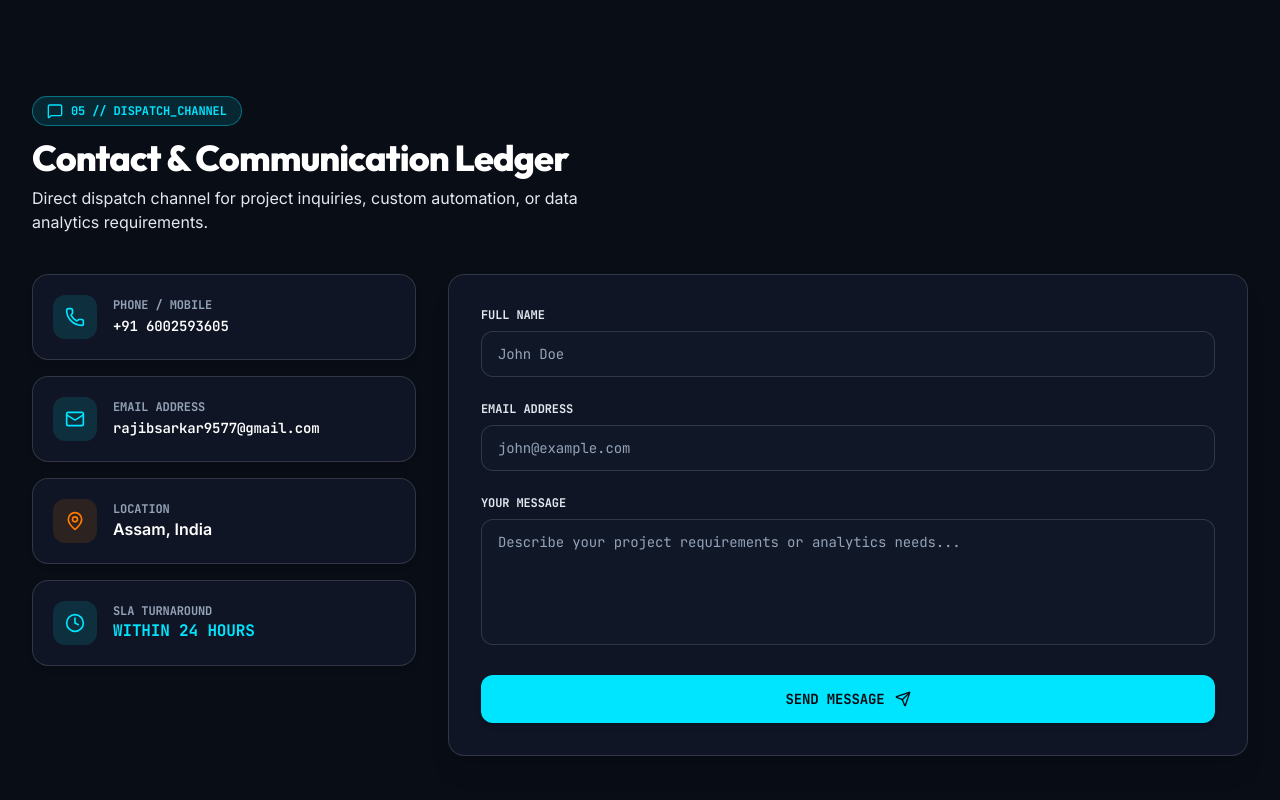
Contact Form Validation › should enforce message minimum length
# Fill valid name, valid email, too short message
Type "Test User" into the field labelled "Full Name" at coordinates (848, 354), box [481,331,1215,377]
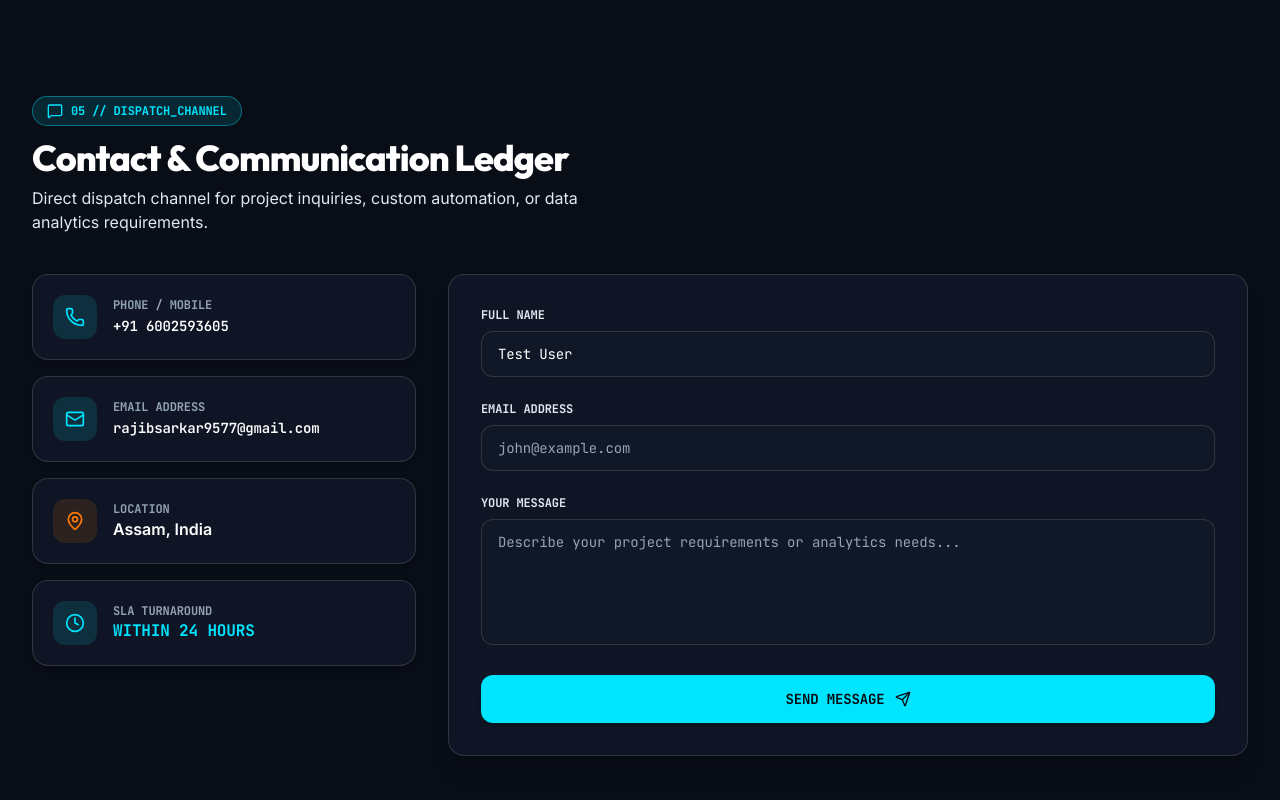
Type "test@example.com" into the field labelled "Email Address" at coordinates (848, 448), box [481,425,1215,471]
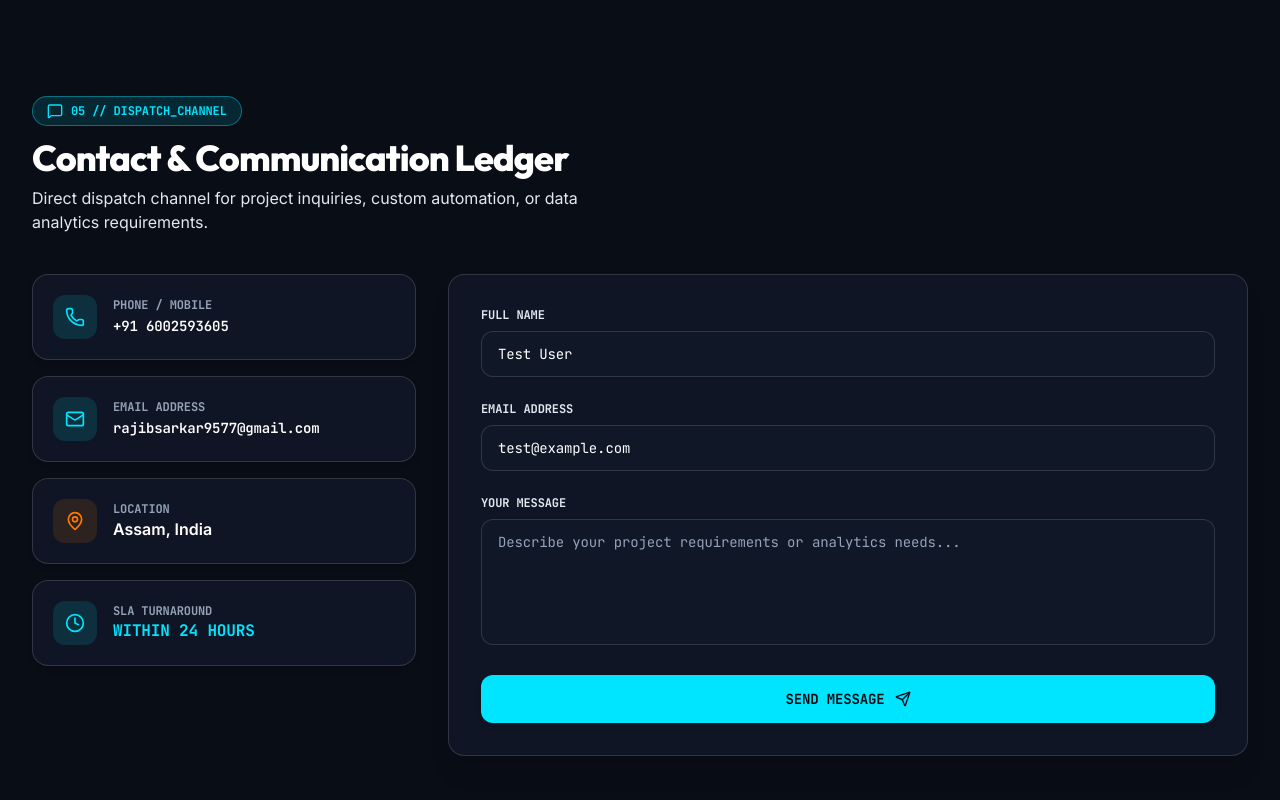
Type "Short" into the text box labelled "Your Message" at coordinates (848, 582), box [481,519,1215,645]
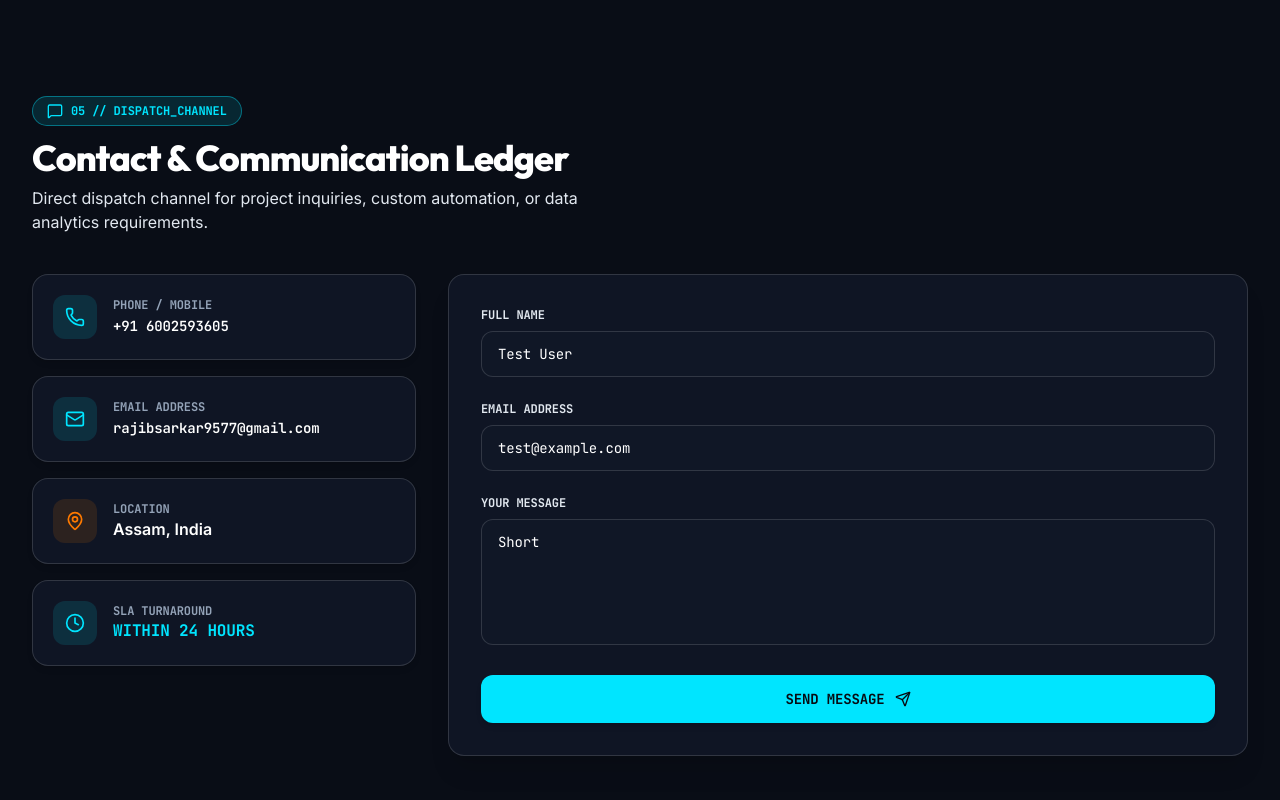
Click the button "Send Message" at coordinates (848, 699), box [481,675,1215,723]
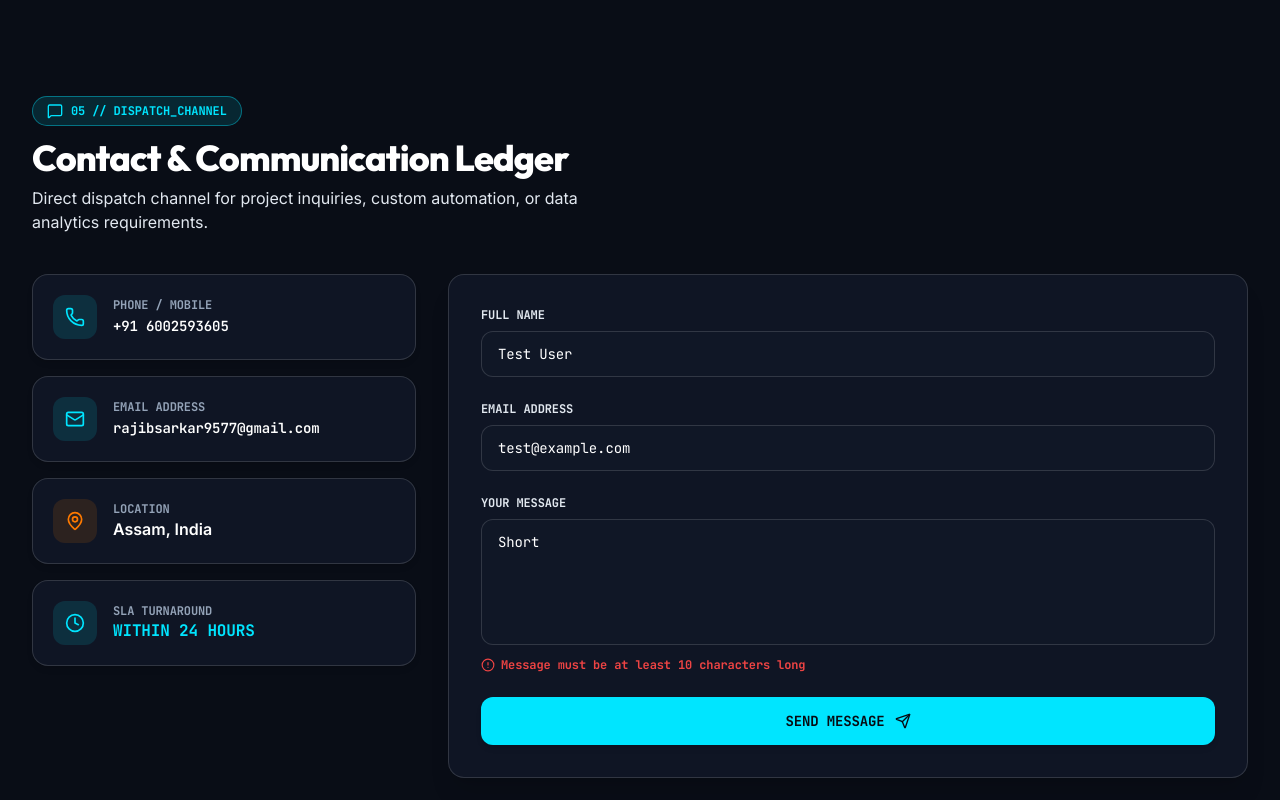
Check: the text "Message must be at least 10 characters long" is shown, box [501,657,806,673]
